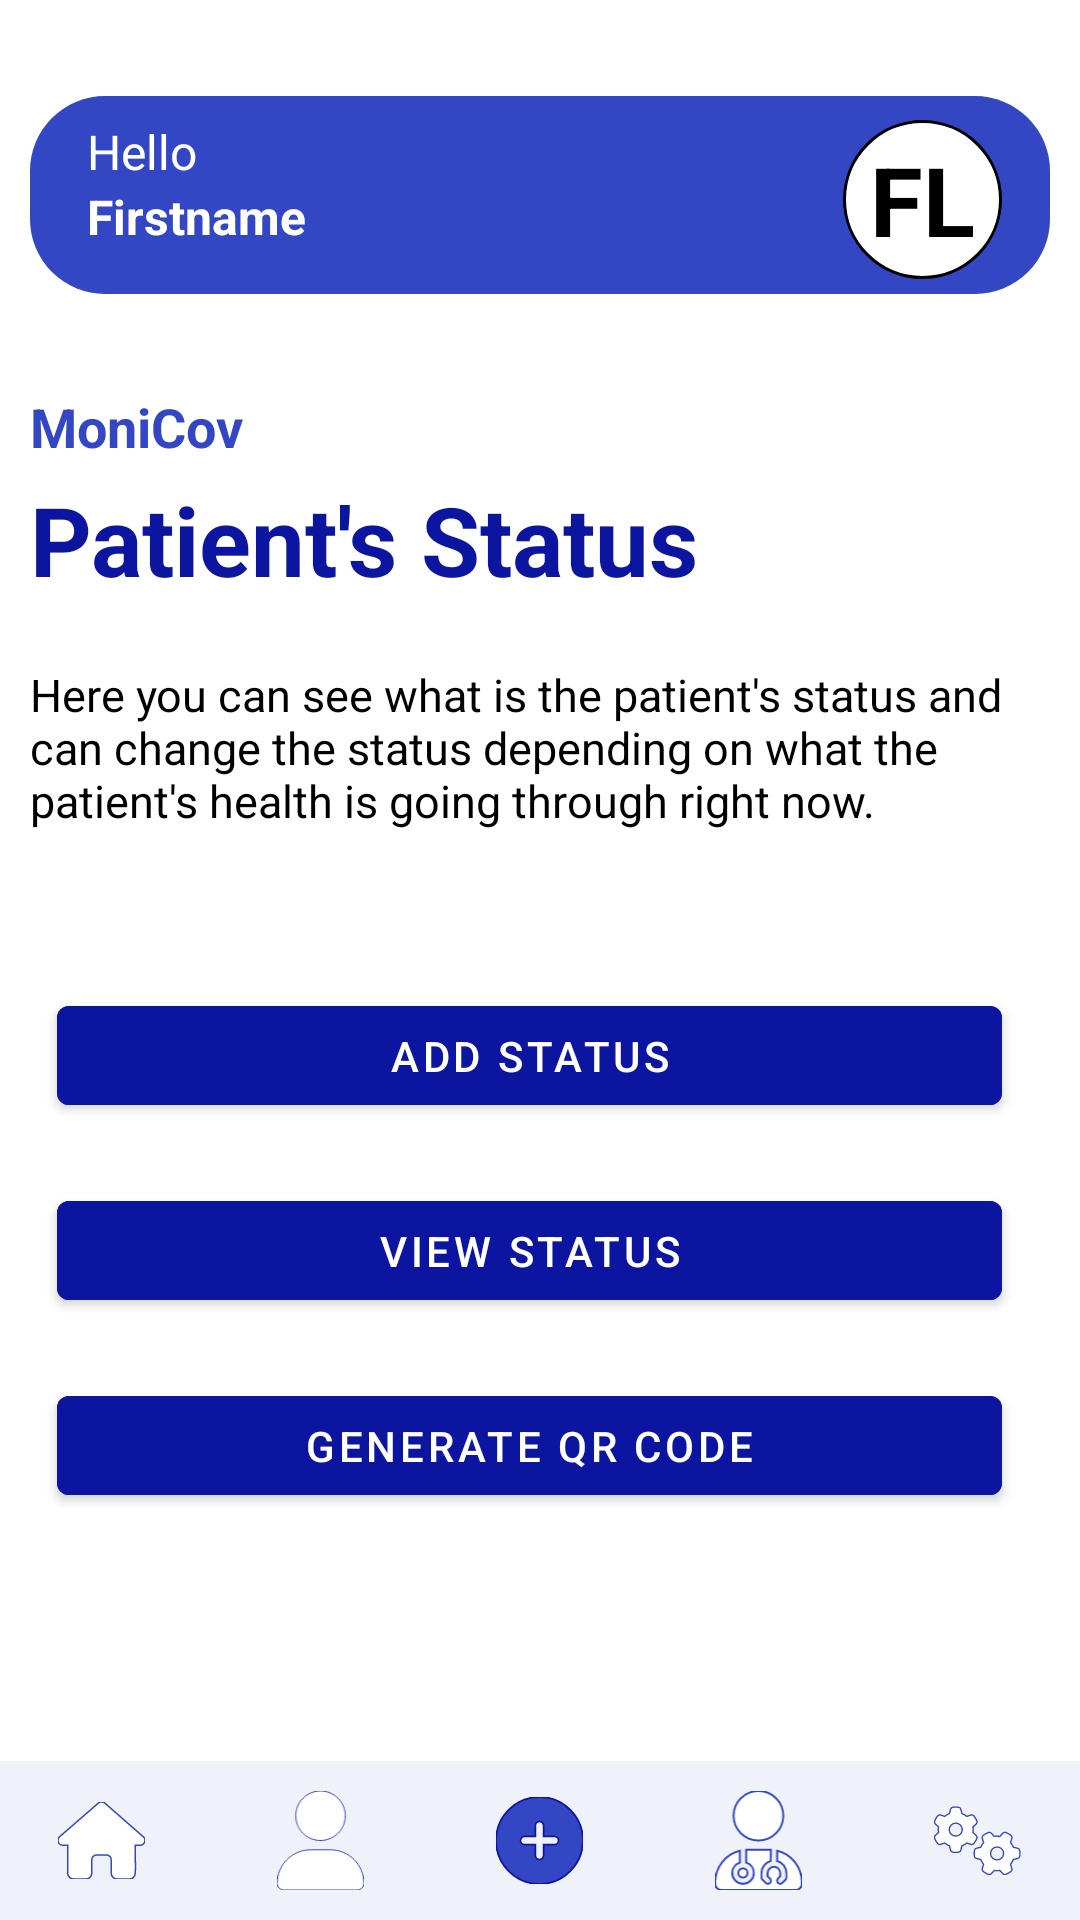

Where to tap for icons on this 1080w x 1920h app screen, as (x=x, y=y):
circle plus: (x=539, y=1840)
gears: (x=977, y=1840)
house: (x=101, y=1840)
user: (x=320, y=1840)
user doctor: (x=758, y=1840)
